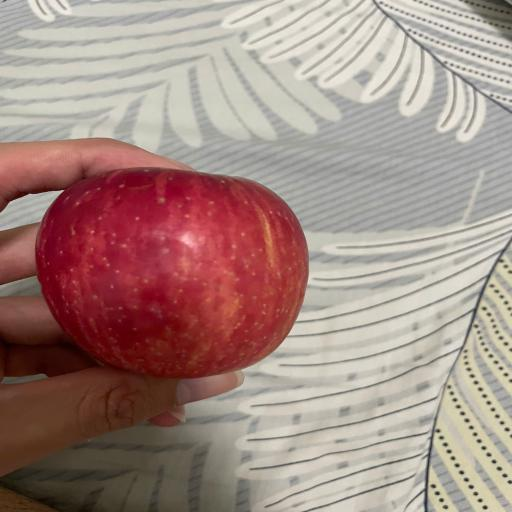apple: (36, 167, 308, 378)
